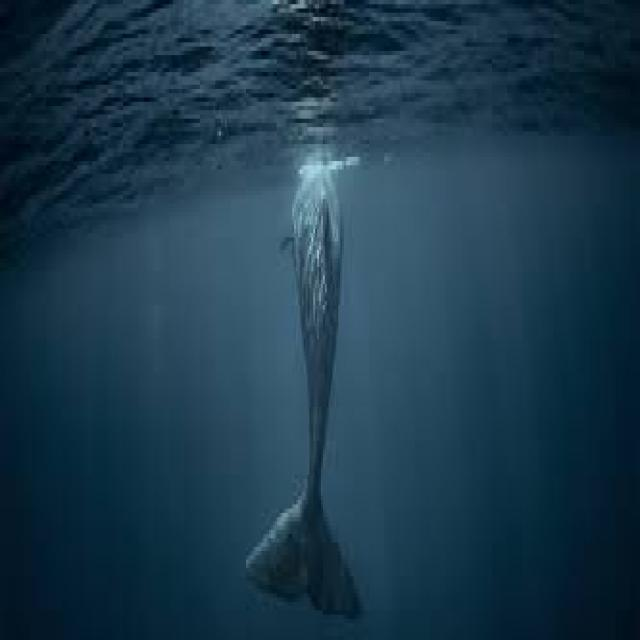blue_whale: (234, 110, 380, 640)
